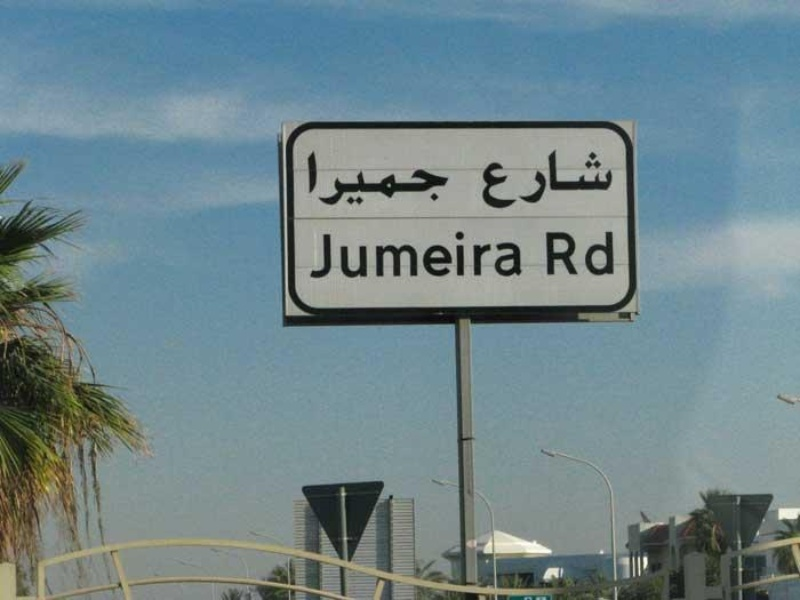text: (481, 148, 496, 212), (497, 148, 512, 212), (513, 148, 528, 212), (529, 148, 544, 212), (545, 148, 560, 212), (561, 148, 576, 212), (577, 148, 592, 212), (593, 148, 608, 212), (321, 149, 336, 209), (337, 149, 352, 209), (353, 149, 368, 209), (369, 149, 384, 209), (385, 149, 400, 209), (401, 149, 416, 209), (417, 149, 432, 209), (433, 149, 448, 209), (307, 149, 320, 209), (321, 229, 336, 279), (337, 229, 352, 279), (353, 229, 368, 279), (369, 229, 384, 279), (385, 229, 400, 279), (401, 229, 416, 279), (417, 229, 432, 279), (433, 229, 448, 279), (449, 229, 464, 279), (465, 229, 480, 279), (481, 229, 496, 279), (497, 229, 512, 279), (545, 229, 560, 277), (561, 229, 576, 277), (577, 229, 592, 277), (593, 229, 608, 277), (513, 229, 527, 279), (609, 229, 619, 277), (311, 229, 320, 279), (609, 148, 615, 212), (449, 149, 452, 209), (542, 229, 544, 277)
